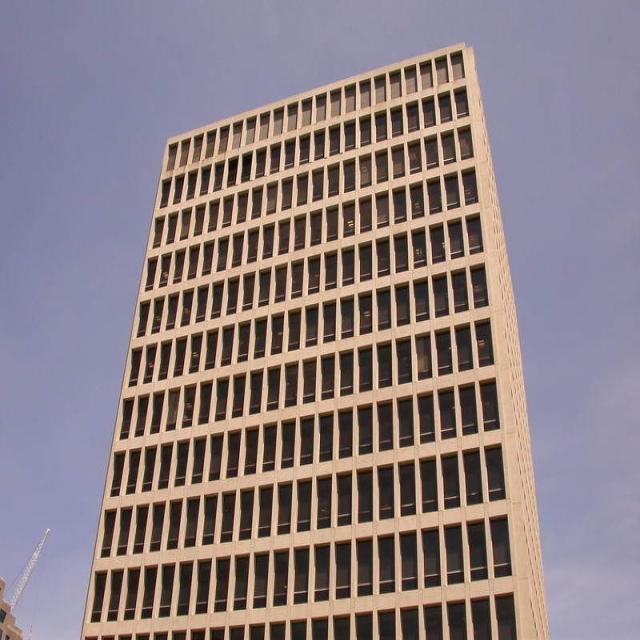building: (0, 41, 551, 640)
